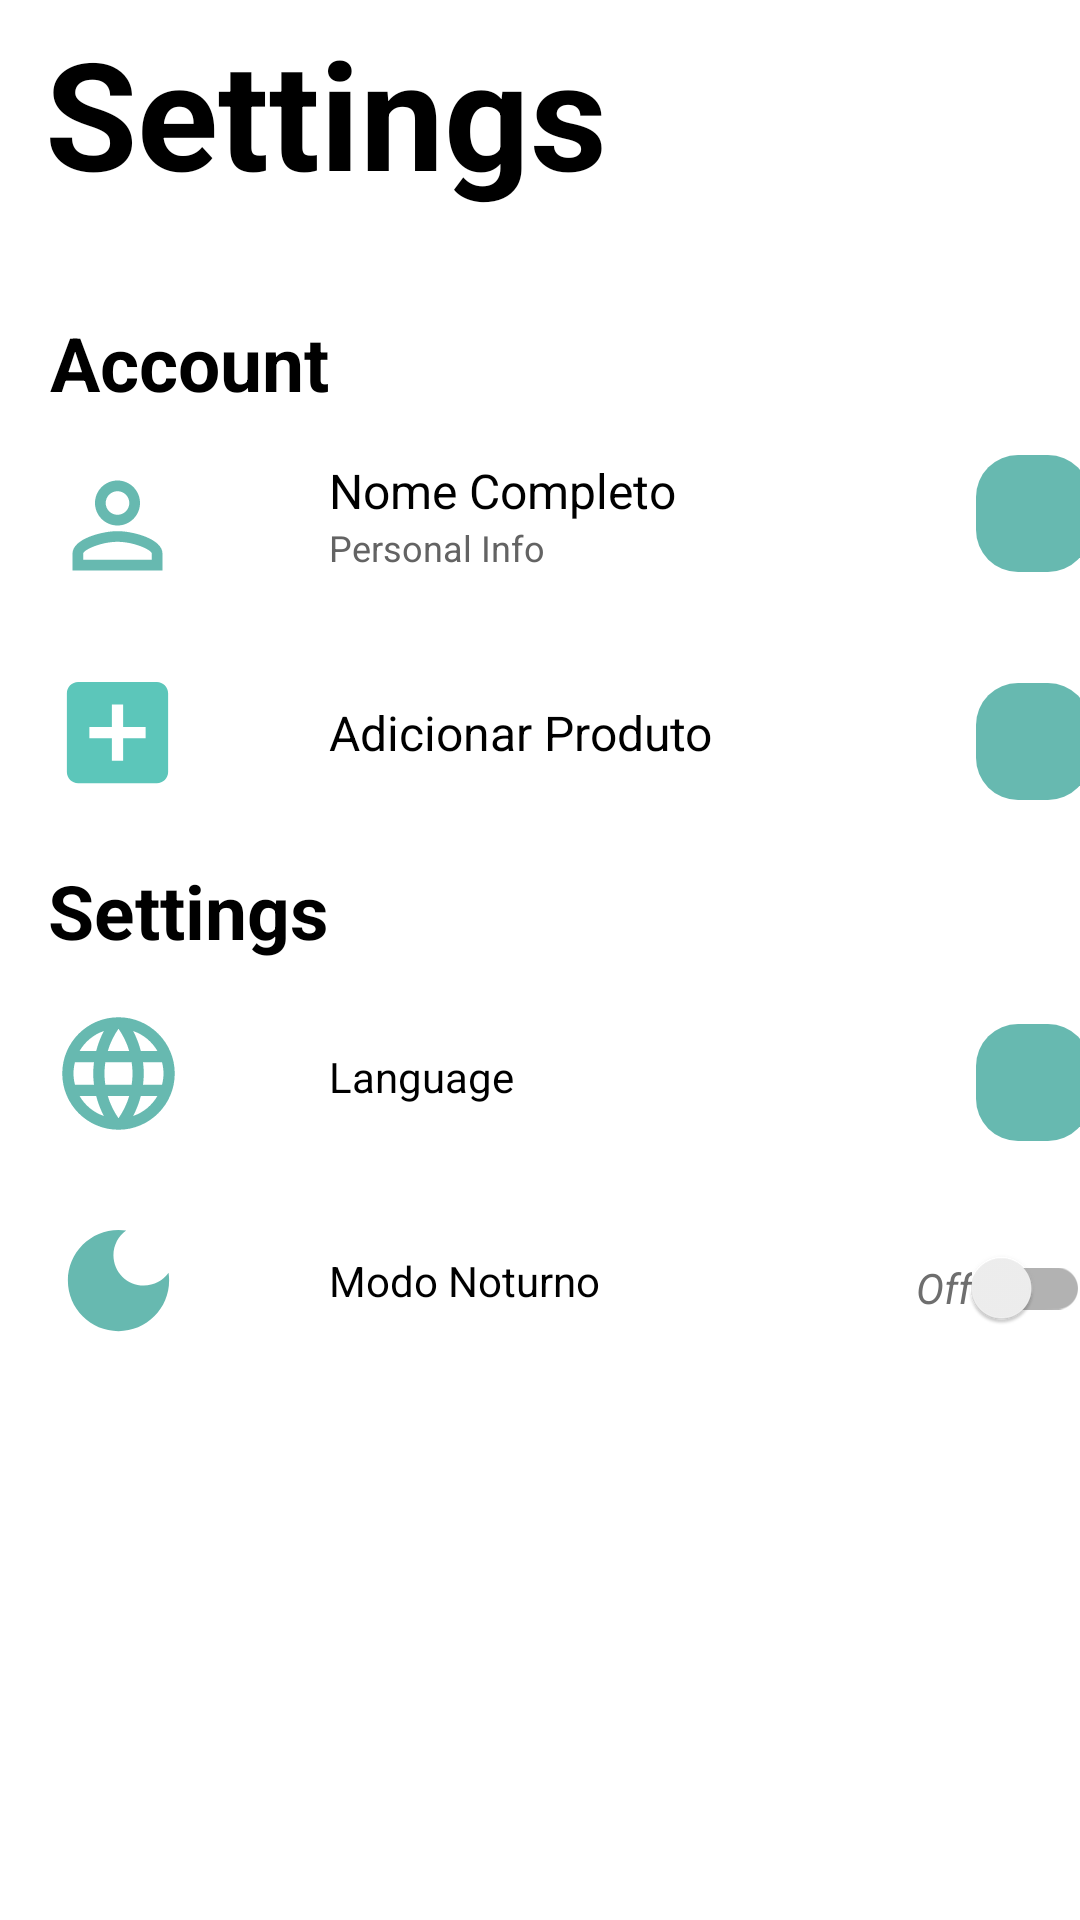

Screen size 1080 x 1920. Icon name, then its box in pixels as (x1, y1, x2, y2):
add box: (67, 682, 168, 784)
mode: (68, 1230, 169, 1332)
profile: (72, 480, 163, 571)
